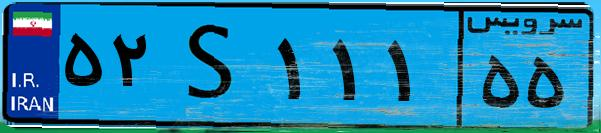1: (270, 28, 330, 110), (385, 28, 445, 110), (330, 28, 385, 110)
2: (110, 28, 158, 98)
5: (57, 26, 110, 100), (475, 38, 525, 113), (525, 38, 570, 115)
S: (158, 12, 270, 120)
